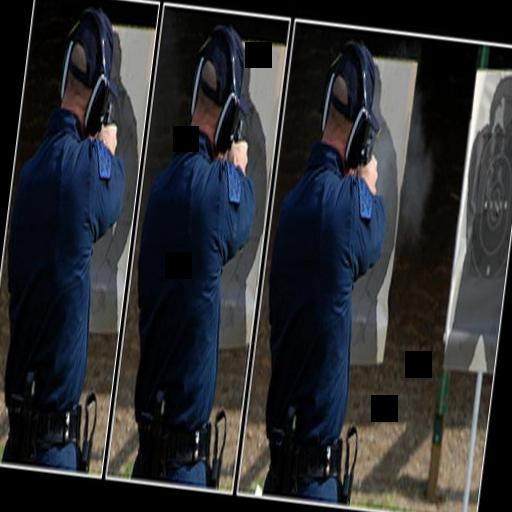Handgun: (230, 105, 246, 145), (100, 94, 114, 127)
